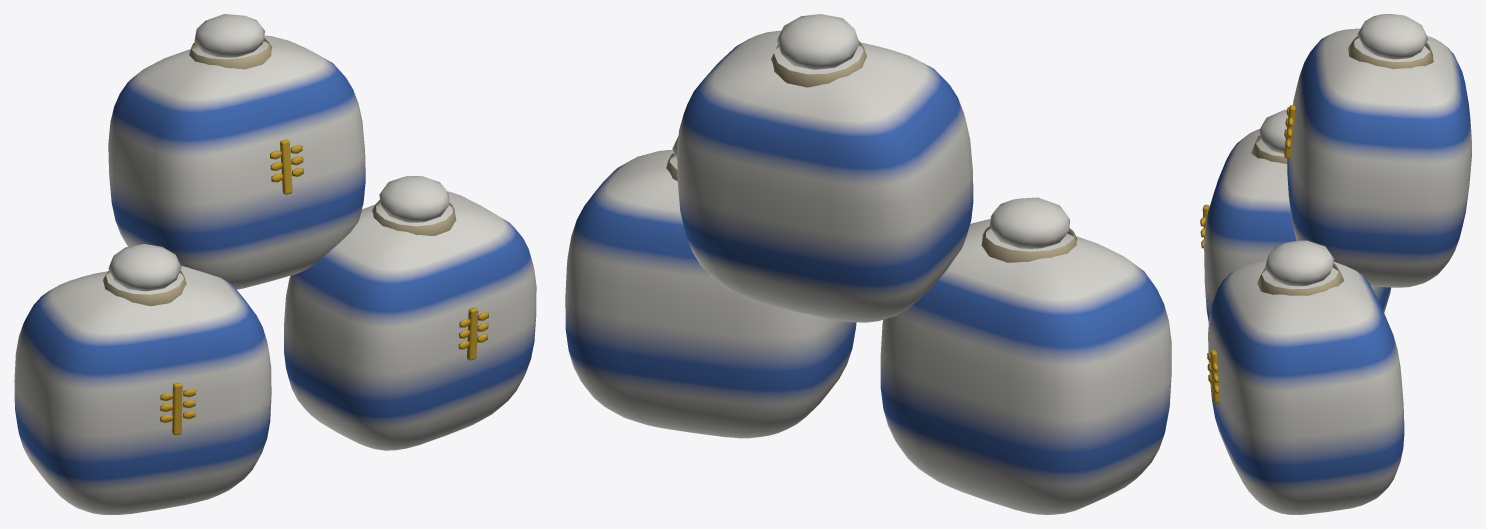
The model's file is furn_flour_sacks.glb.
The picture shows the model from 3 angles, left to right: view 1: azimuth 30°, elevation 25°; view 2: azimuth 150°, elevation 25°; view 3: azimuth 270°, elevation 25°; orthographic projection. The views are drawn at different scales.
Visible parts, largest first — view 1: furn_flour_sacks_main; view 2: furn_flour_sacks_main; view 3: furn_flour_sacks_main.
Part boxes in pixels (x1=…): furn_flour_sacks_main: x1=14, y1=14, x2=536, y2=514; furn_flour_sacks_main: x1=565, y1=14, x2=1171, y2=514; furn_flour_sacks_main: x1=1200, y1=14, x2=1471, y2=514.
Bounding box in the file's own units: 1.38 × 1.11 × 0.6721.
